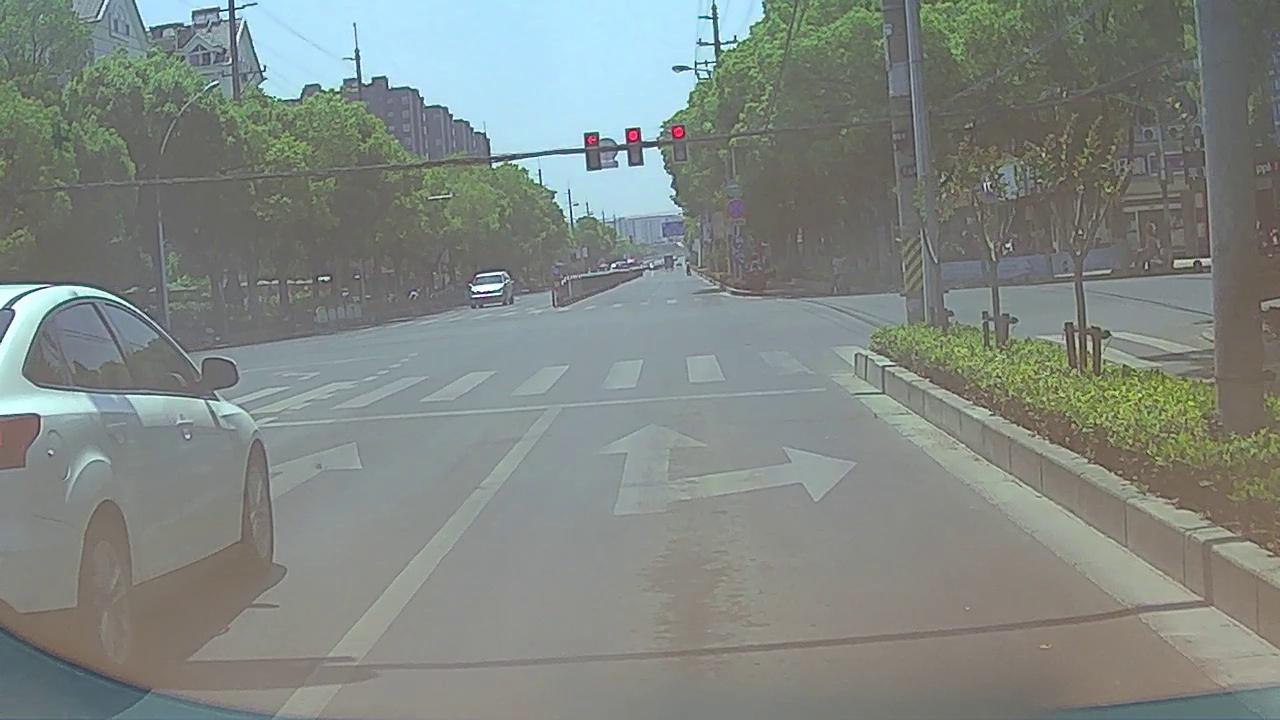traffic_light: (626, 129, 642, 167), (672, 124, 688, 162), (586, 133, 600, 169)
